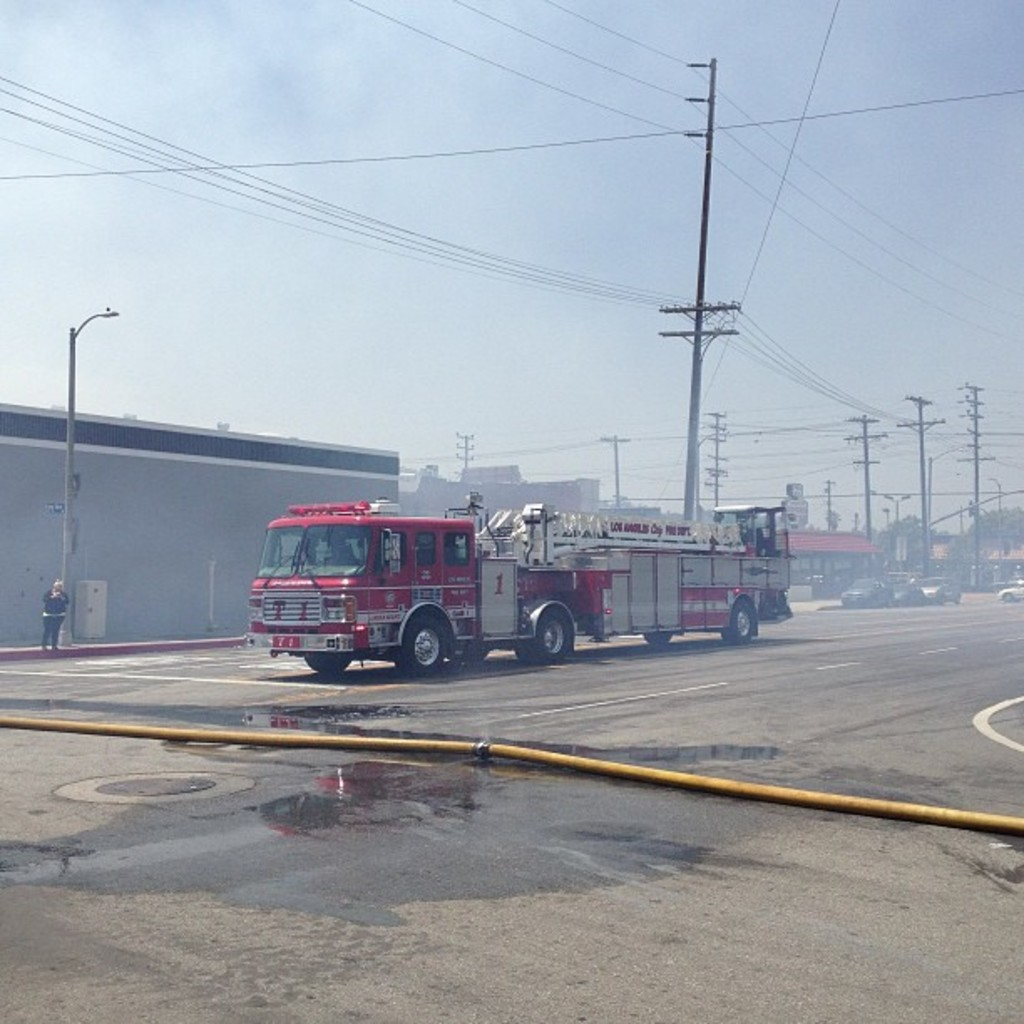Car: (905, 570, 962, 612), (839, 575, 896, 609)
